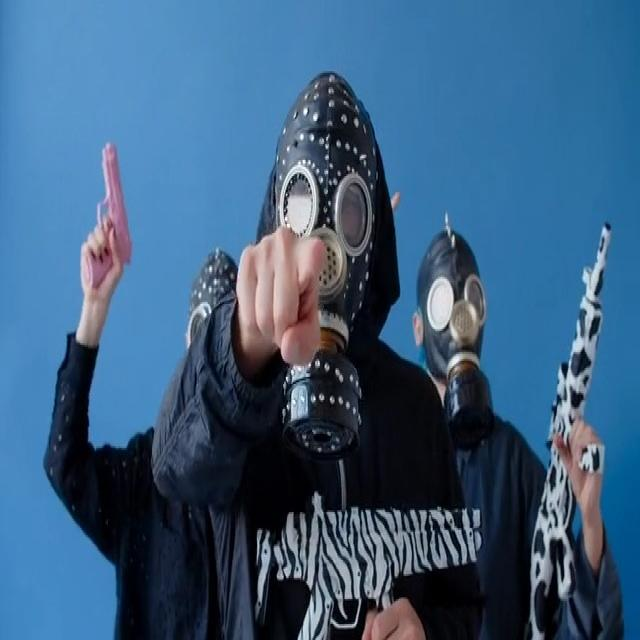Gun_Holder: (521, 190, 633, 640), (60, 125, 143, 319)
Person: (153, 62, 469, 640), (407, 190, 616, 640)
